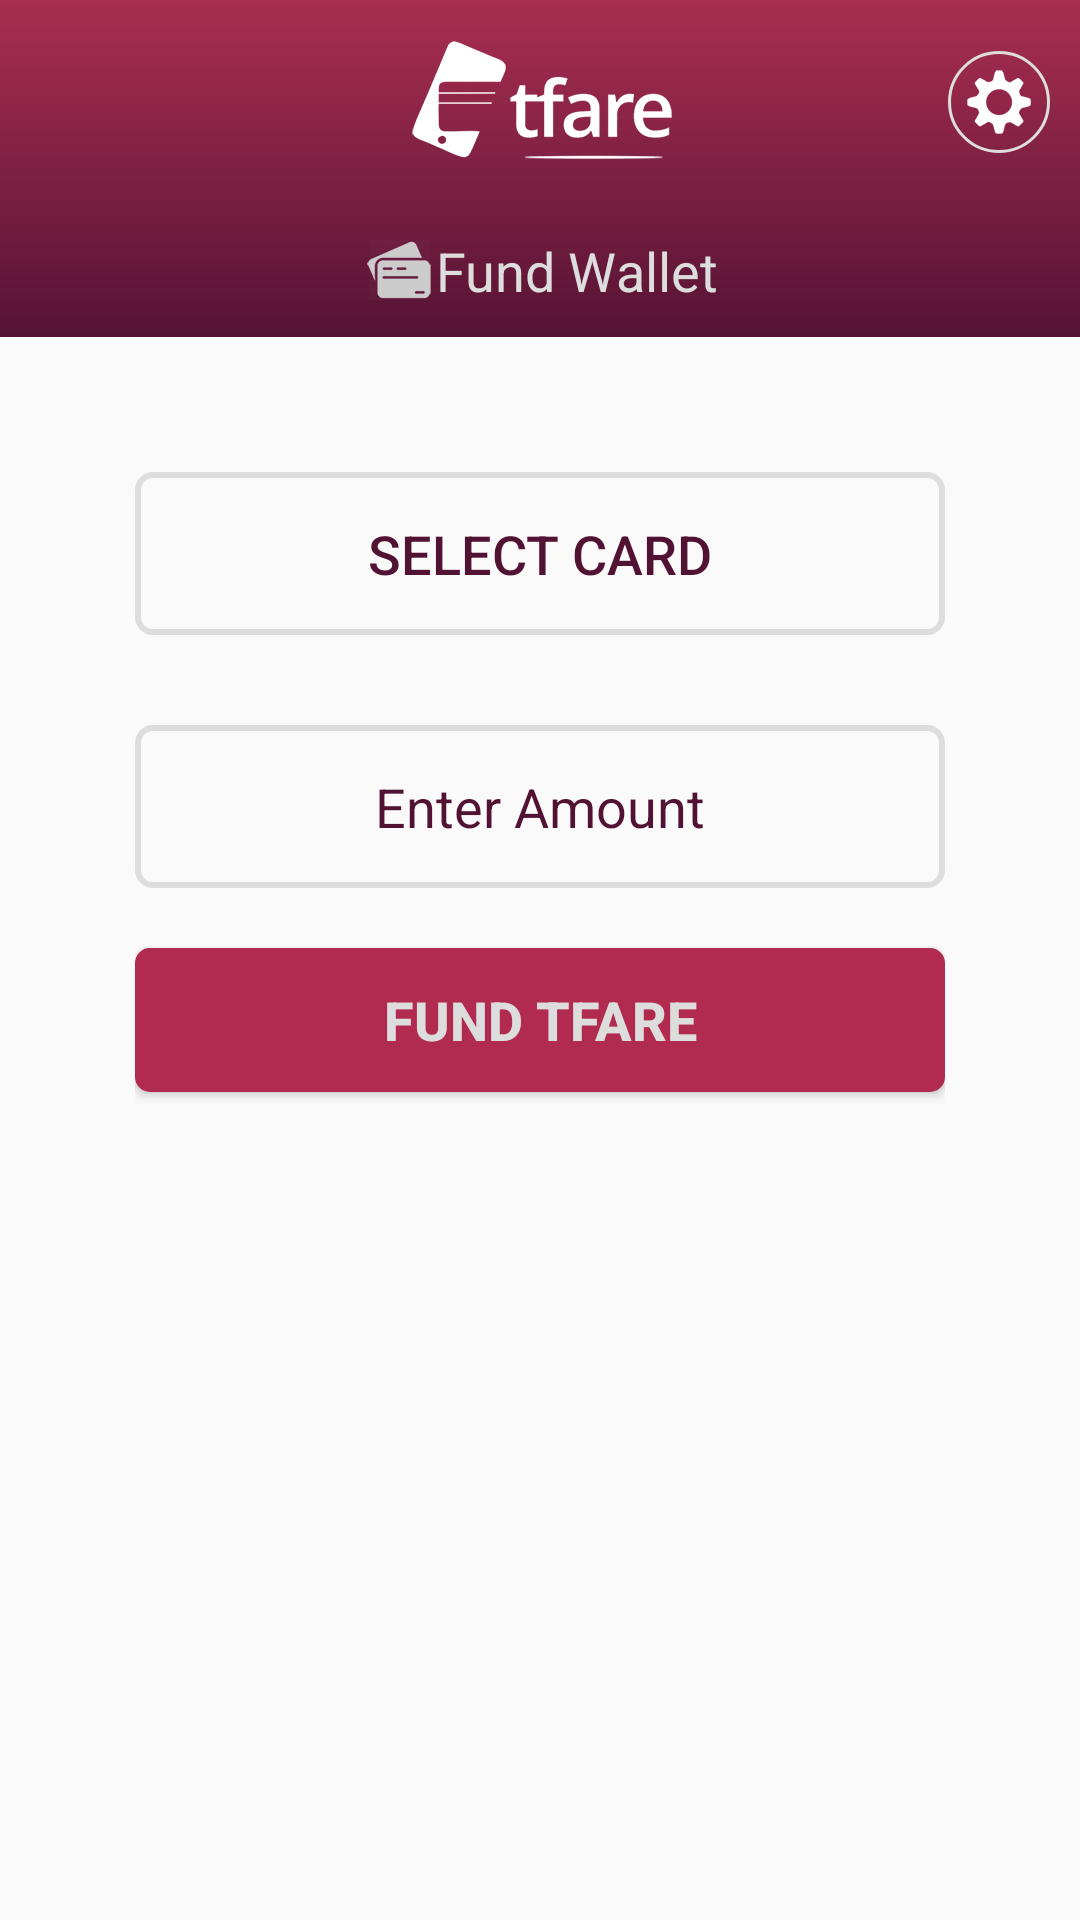

Icons on this 1080x1920 Android screen, each with its box as (x1, y1, x2, y2):
settings: (948, 51, 1050, 153)
